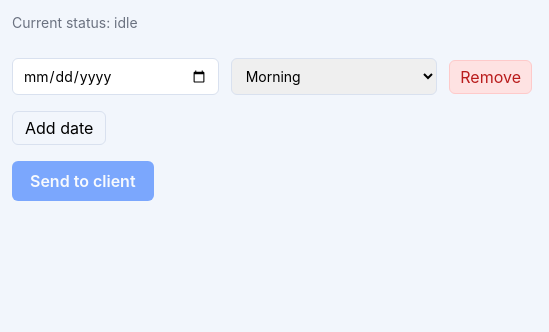
Test: BookingForm › blocks submit on duplicate {date, window} rows
Click the button "Add date".
click(59, 128)  # box 12,111 -> 106,145
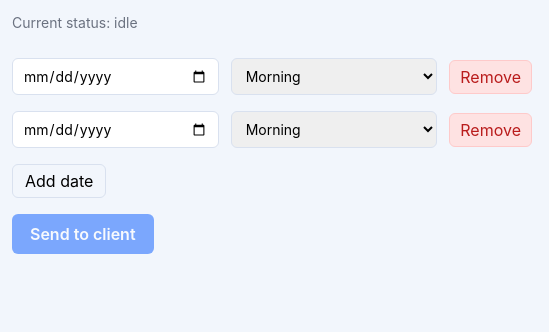
Type "2099-07-15" into the date field named "date".
click(115, 77); type("2099-07-15")  # box 12,58 -> 219,95
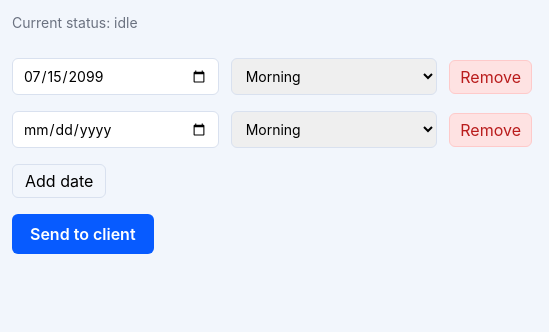
Type "2099-07-15" into the date field named "date".
click(115, 130); type("2099-07-15")  # box 12,111 -> 219,148
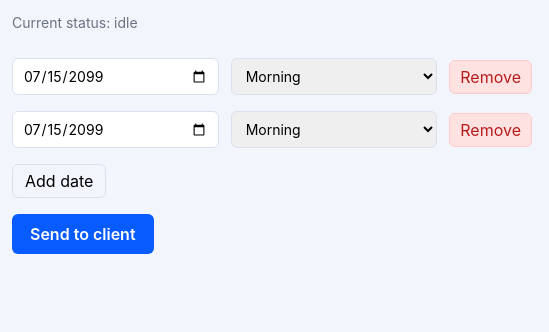
Select "Morning" in the dropdown named "window" at (334,77), box 231,58 -> 437,95
Select "Morning" in the dropdown named "window" at (334,130), box 231,111 -> 437,148
Click the button "Send to client".
click(83, 234)  # box 12,214 -> 154,254
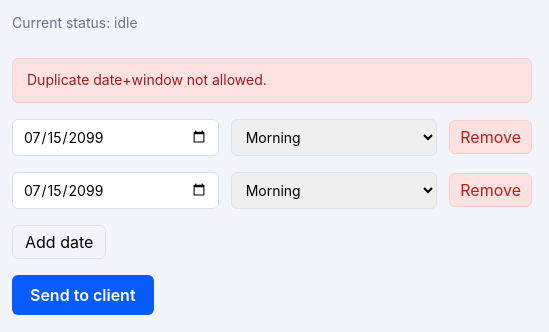
Check: the text "Duplicate date+window not allowed." is shown, box 12,58 -> 532,103
